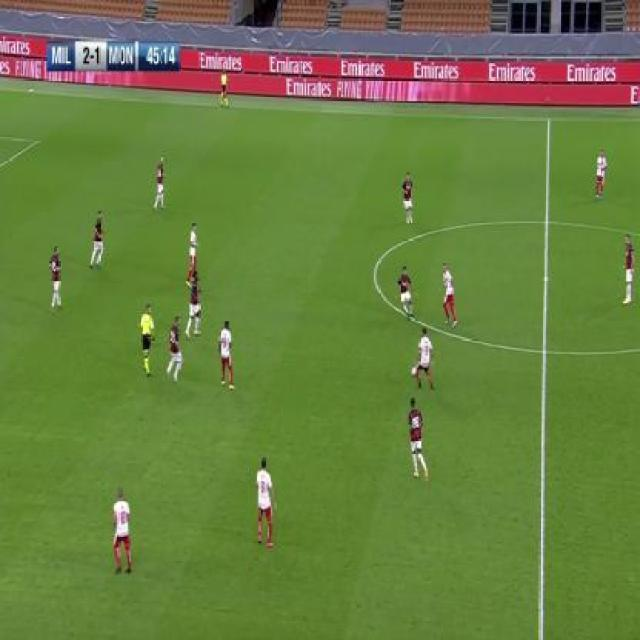ball: (411, 366, 417, 377)
player: (255, 456, 278, 550), (406, 399, 431, 484), (110, 485, 133, 576), (412, 326, 437, 392), (394, 264, 419, 321), (138, 302, 157, 376), (165, 317, 184, 386), (440, 260, 459, 328), (218, 317, 235, 391), (185, 268, 202, 341), (48, 245, 64, 318), (89, 207, 106, 272), (622, 232, 636, 306), (151, 154, 167, 214), (401, 169, 415, 226), (593, 147, 607, 201), (186, 221, 199, 274), (218, 65, 231, 111)
